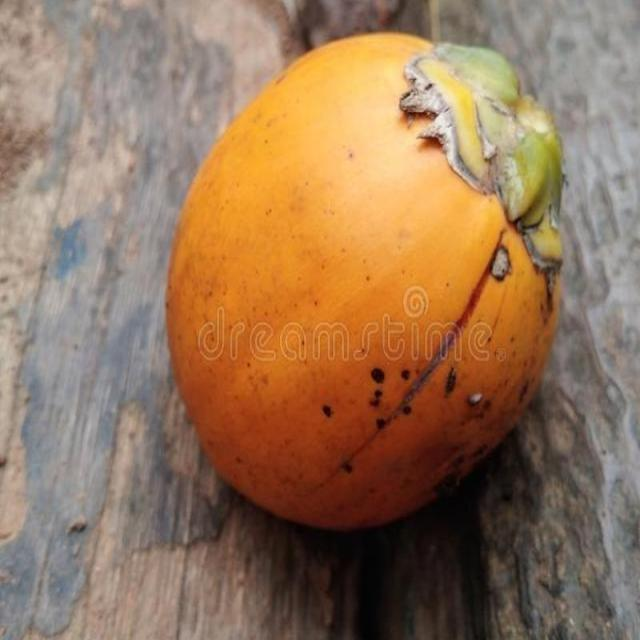good: (164, 31, 565, 535)
